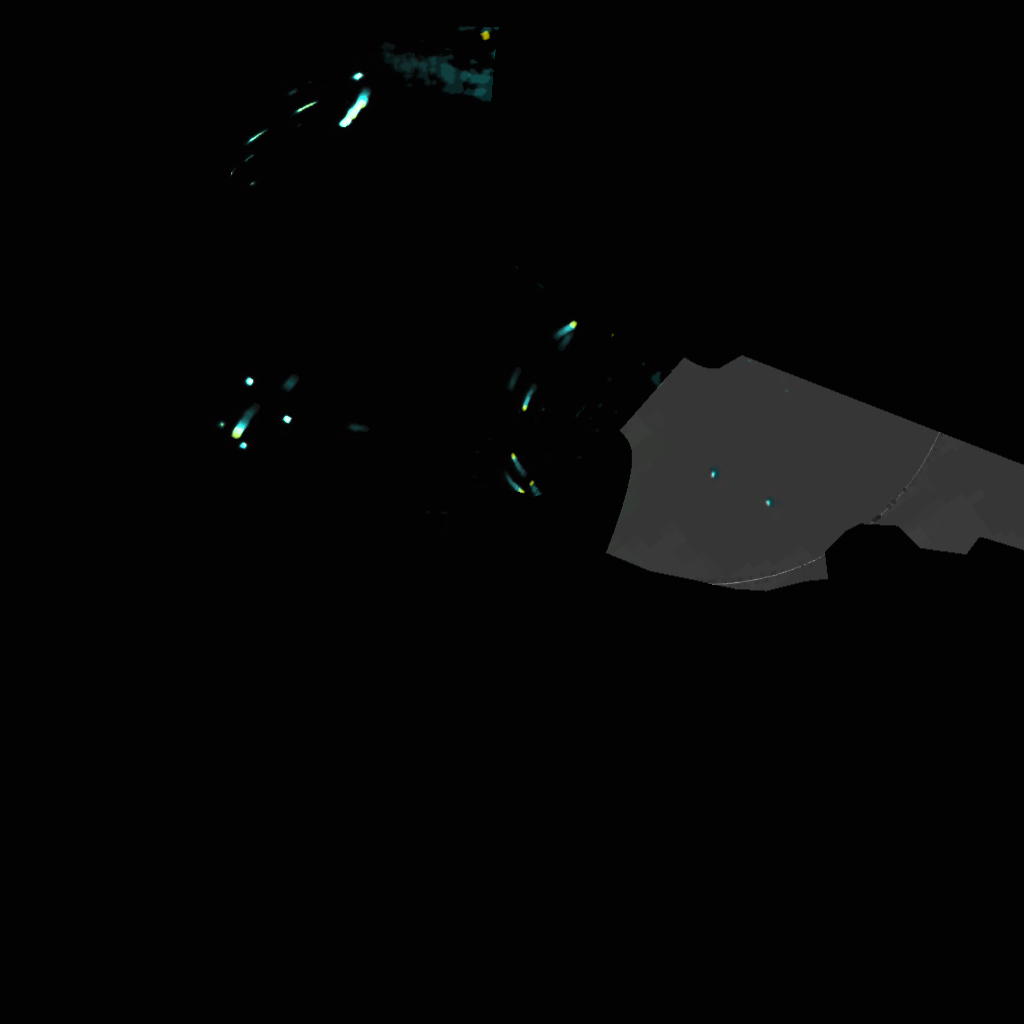B: (231, 412, 249, 439), (358, 86, 374, 108), (559, 319, 576, 337), (520, 392, 535, 412), (506, 480, 524, 496), (508, 450, 522, 469), (347, 104, 361, 118), (527, 478, 538, 491)
